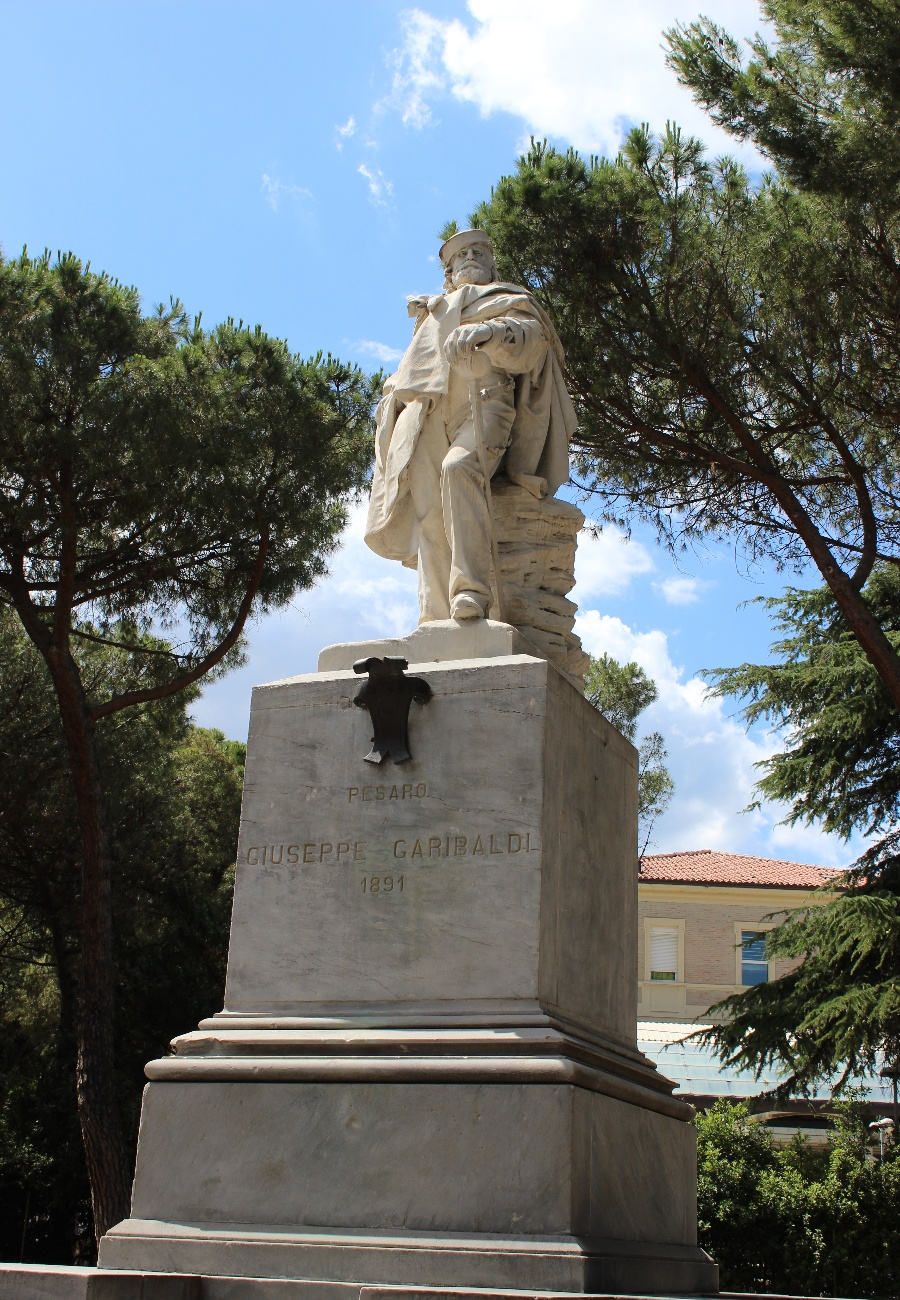Giuseppe Garibaldi: (365, 229, 584, 626)
